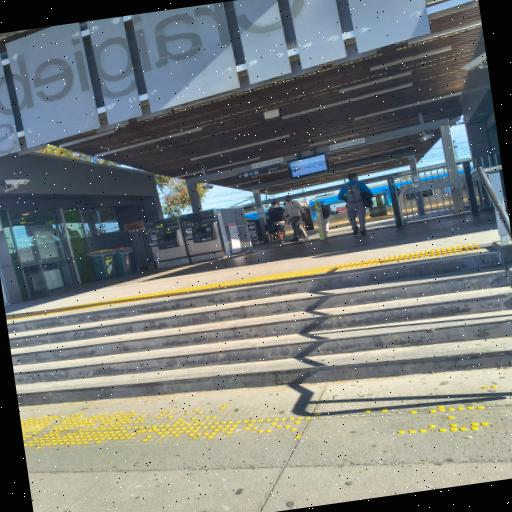clear_path: (18, 216, 487, 311)
signage: (288, 153, 329, 180), (324, 136, 367, 154), (237, 164, 282, 180), (247, 156, 283, 170)
stairs: (11, 250, 512, 407)
tgsi: (7, 237, 484, 323), (25, 382, 512, 448)
